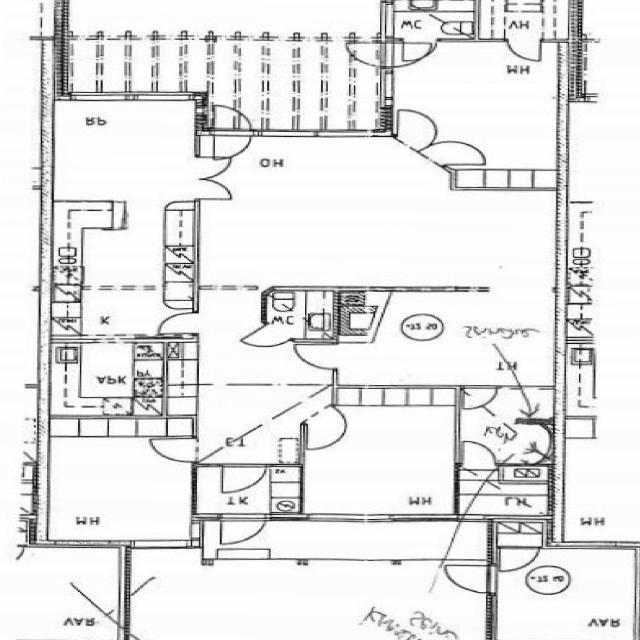door: (304, 406, 361, 442), (392, 119, 446, 152), (418, 134, 470, 167), (242, 324, 293, 356), (222, 514, 266, 550), (222, 464, 267, 496), (444, 567, 498, 593), (380, 44, 430, 67), (343, 44, 392, 67), (214, 130, 251, 160), (214, 107, 251, 137), (296, 345, 340, 369), (501, 546, 538, 573), (158, 439, 200, 462), (463, 386, 499, 412), (462, 442, 498, 468), (508, 39, 541, 64), (195, 157, 234, 178), (195, 178, 234, 199), (162, 312, 200, 333), (404, 39, 436, 63)
